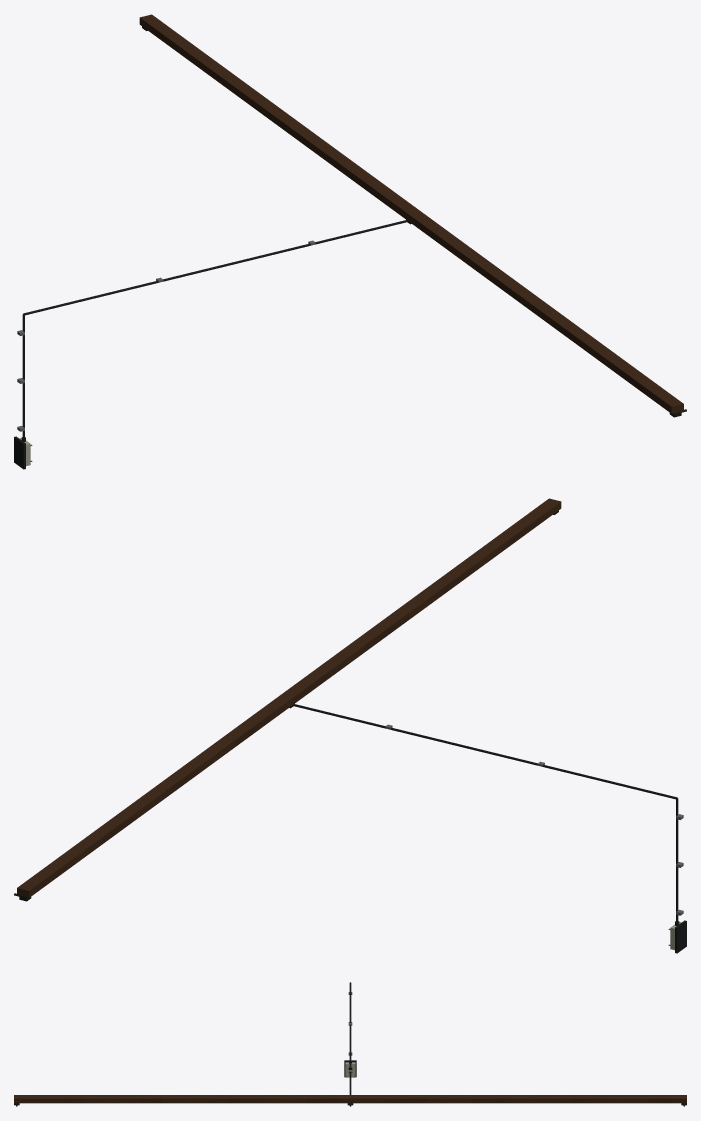
Rendered from level_camp_pavilion_services.glb.
3 renders of one model, top to bottom at view 1: azimuth 30°, elevation 25°; view 2: azimuth 150°, elevation 25°; view 3: azimuth 270°, elevation 25°, orthographic. The views are drawn at different scales.
Visible parts, largest first — view 1: level_camp_pavilion_services; view 2: level_camp_pavilion_services; view 3: level_camp_pavilion_services.
Boxes of the visible parts, box(x1,y1,x2,y2) form: level_camp_pavilion_services: box(14, 14, 686, 469); level_camp_pavilion_services: box(14, 498, 686, 953); level_camp_pavilion_services: box(14, 982, 686, 1106).
Bounding box in the file's own units: 5.3 × 2 × 12.1.
Materials: 5 (5 with a texture image).
